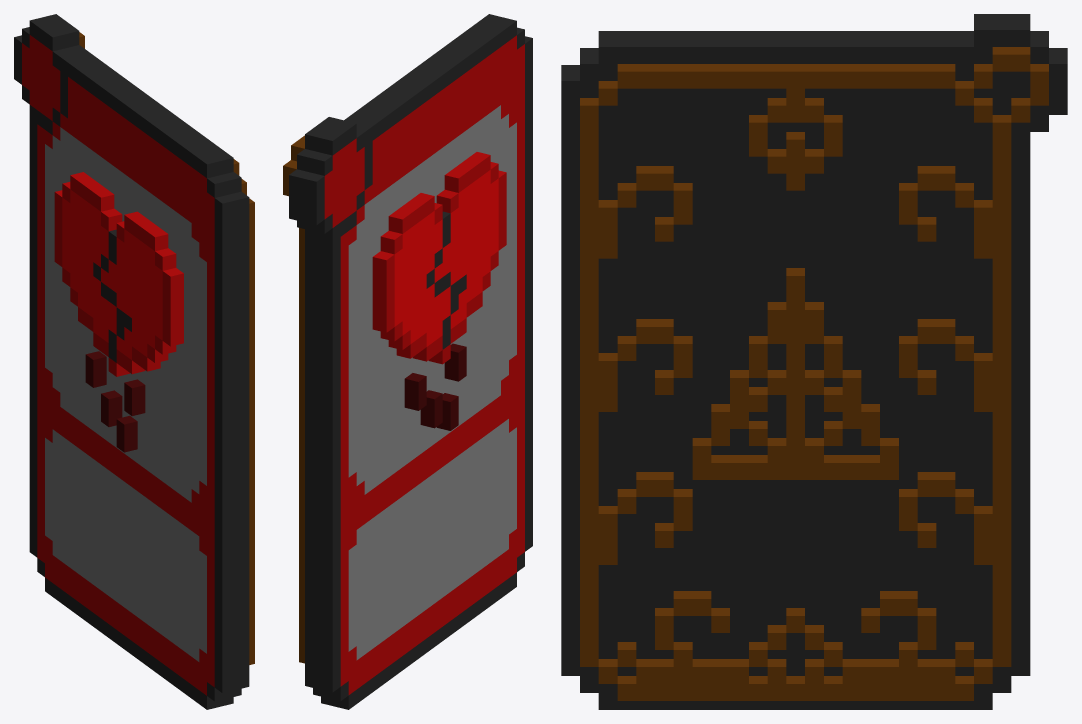
File: Crucio.obj
3 views of the same model, side by side, from view 1: azimuth 30°, elevation 25°; view 2: azimuth 150°, elevation 25°; view 3: azimuth 270°, elevation 25° (orthographic). The views are drawn at different scales.
Size of the model in its own units: 0.4 by 4 by 2.7.
Materials: 1 (1 with a texture image).
